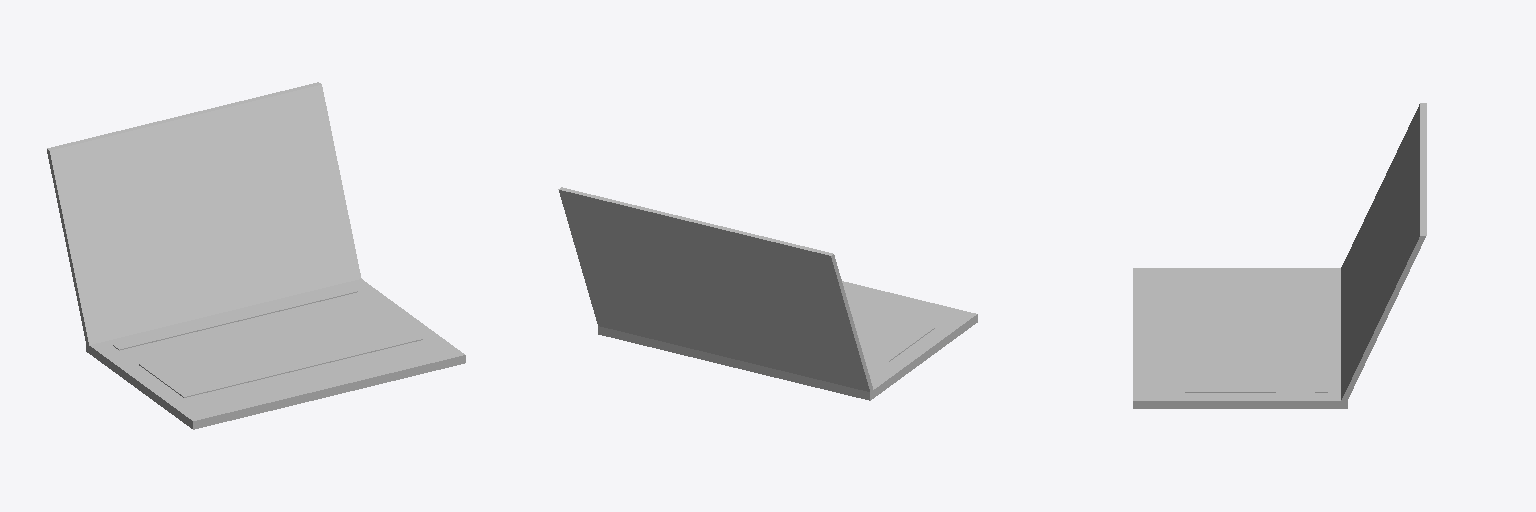
The model's file is laptop.obj.
The picture shows the model from 3 angles: view 1: azimuth 30°, elevation 25°; view 2: azimuth 150°, elevation 25°; view 3: azimuth 270°, elevation 25°; orthographic projection.
Visible parts, largest first — view 1: group1 laptop:Mesh polySurface7, group1 laptop:Mesh polySurface6, group1 laptop:Mesh polySurface5, polySurface3 group1 laptop:Mesh, group1 laptop:Mesh polySurface4; view 2: group1 laptop:Mesh polySurface6, group1 laptop:Mesh polySurface5; view 3: group1 laptop:Mesh polySurface6, group1 laptop:Mesh polySurface5, group1 laptop:Mesh polySurface7, group1 laptop:Mesh polySurface4, polySurface3 group1 laptop:Mesh.
Part boxes in pixels (bbox=[...]): group1 laptop:Mesh polySurface7: bbox=[56, 89, 355, 339]; group1 laptop:Mesh polySurface6: bbox=[47, 82, 465, 429]; group1 laptop:Mesh polySurface5: bbox=[135, 303, 422, 397]; polySurface3 group1 laptop:Mesh: bbox=[50, 85, 361, 344]; group1 laptop:Mesh polySurface4: bbox=[113, 287, 357, 350]; group1 laptop:Mesh polySurface6: bbox=[558, 187, 977, 400]; group1 laptop:Mesh polySurface5: bbox=[850, 307, 934, 362]; group1 laptop:Mesh polySurface6: bbox=[1133, 103, 1426, 408]; group1 laptop:Mesh polySurface5: bbox=[1185, 275, 1282, 392]; group1 laptop:Mesh polySurface7: bbox=[1343, 108, 1418, 392]; group1 laptop:Mesh polySurface4: bbox=[1315, 275, 1327, 392]; polySurface3 group1 laptop:Mesh: bbox=[1341, 104, 1419, 399].
Bounding box in the file's own units: 2.8 × 1.71 × 2.61.